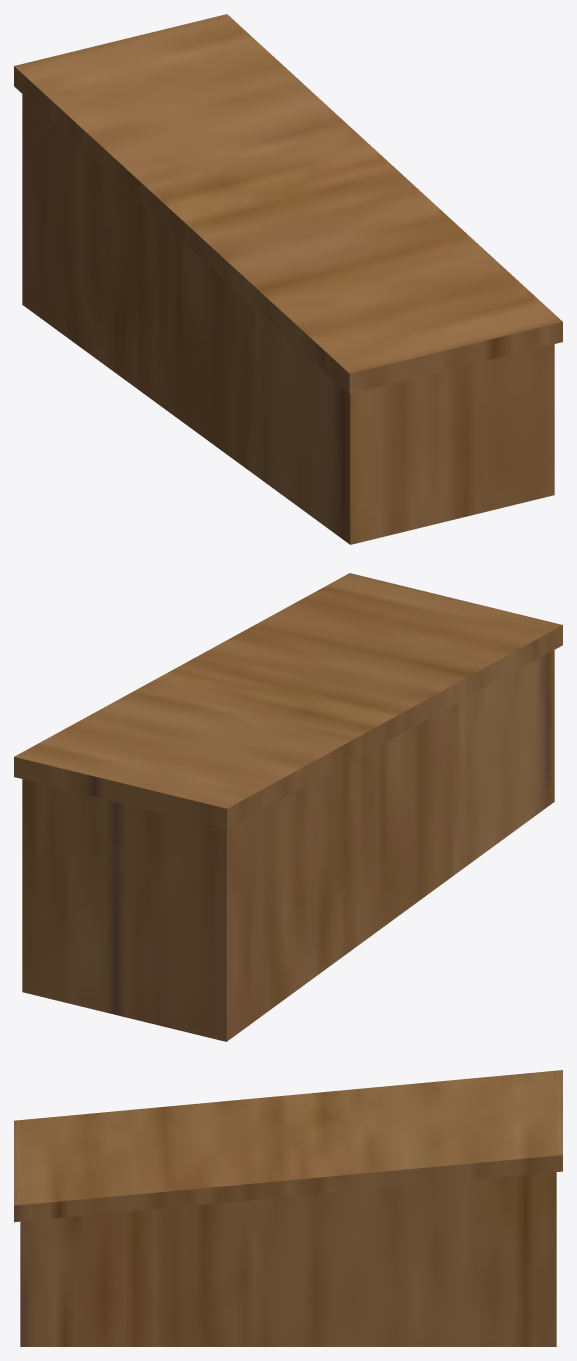
The model's file is stand2.fbx.
3 views of the same model, one above another, from view 1: azimuth 30°, elevation 25°; view 2: azimuth 150°, elevation 25°; view 3: azimuth 270°, elevation 25° (orthographic). The views are drawn at different scales.
Visible parts, largest first — view 1: Cube.005; view 2: Cube.005; view 3: Cube.005.
Part boxes in pixels (x1,y1,x2,y2): Cube.005: [14, 14, 562, 544]; Cube.005: [14, 573, 562, 1041]; Cube.005: [14, 1070, 562, 1346].
Size of the model in its own units: 127 by 135 by 348.
